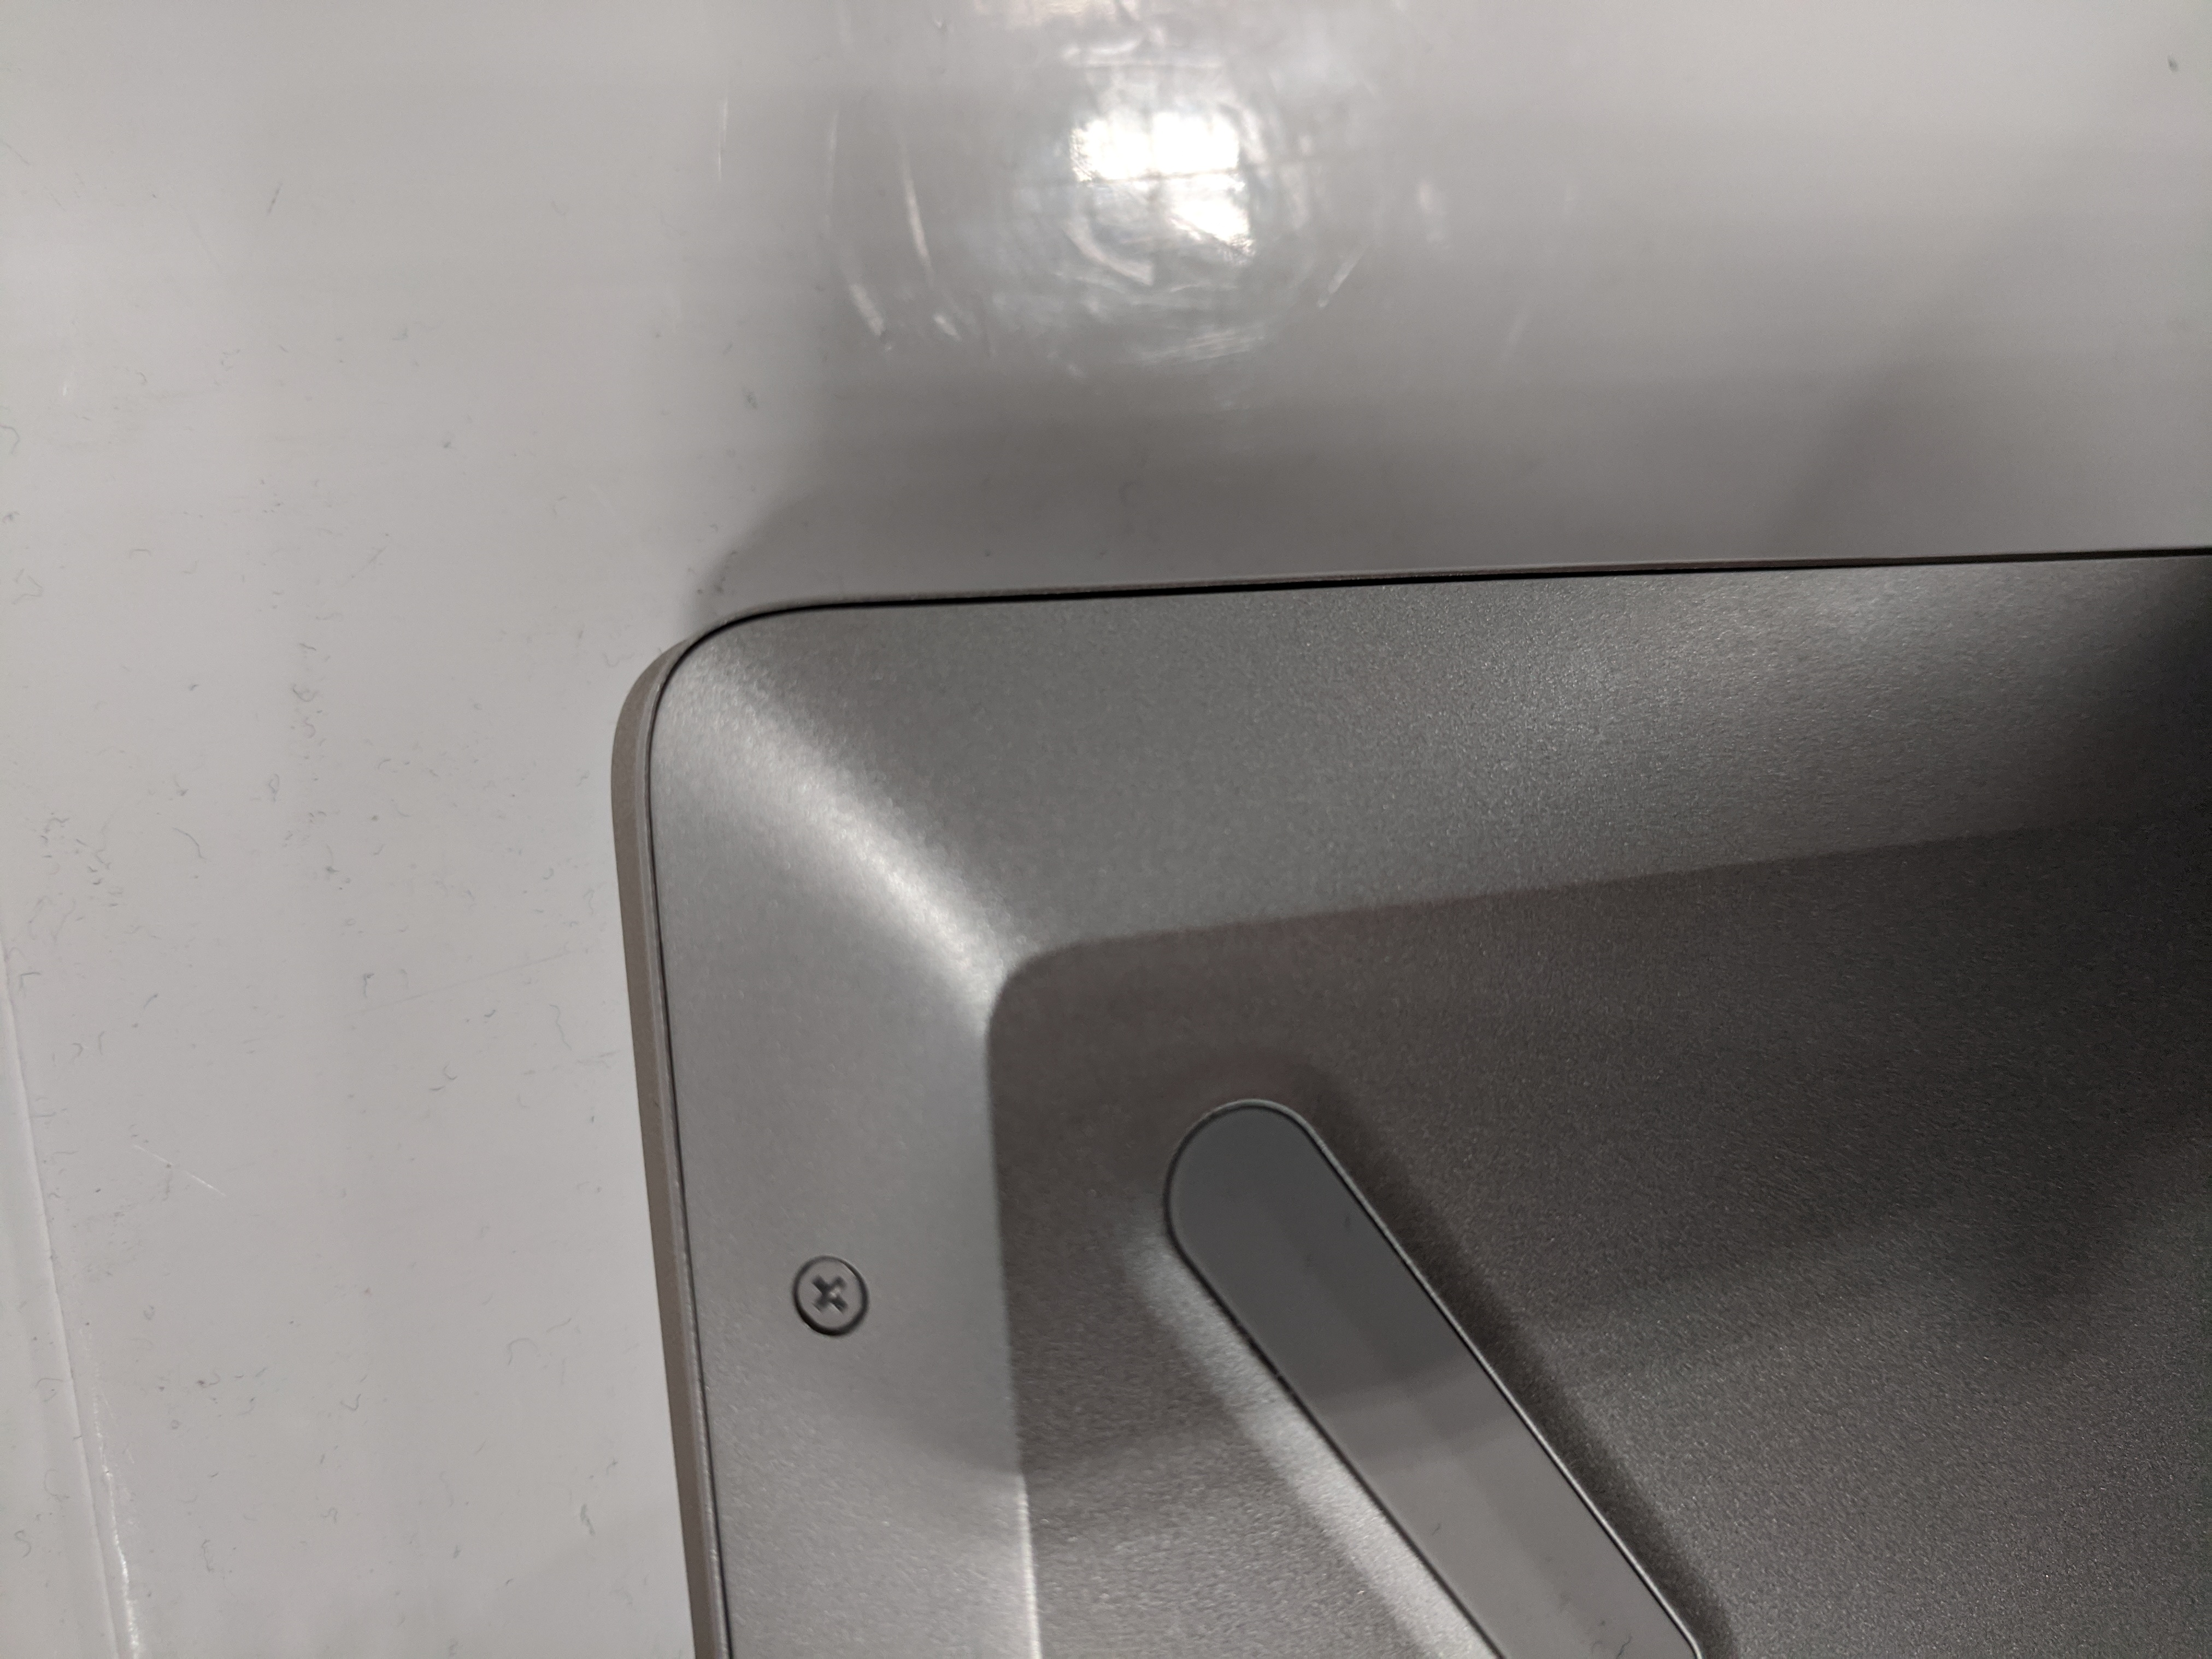cross_recessed_screw: (791, 1249, 881, 1338)
